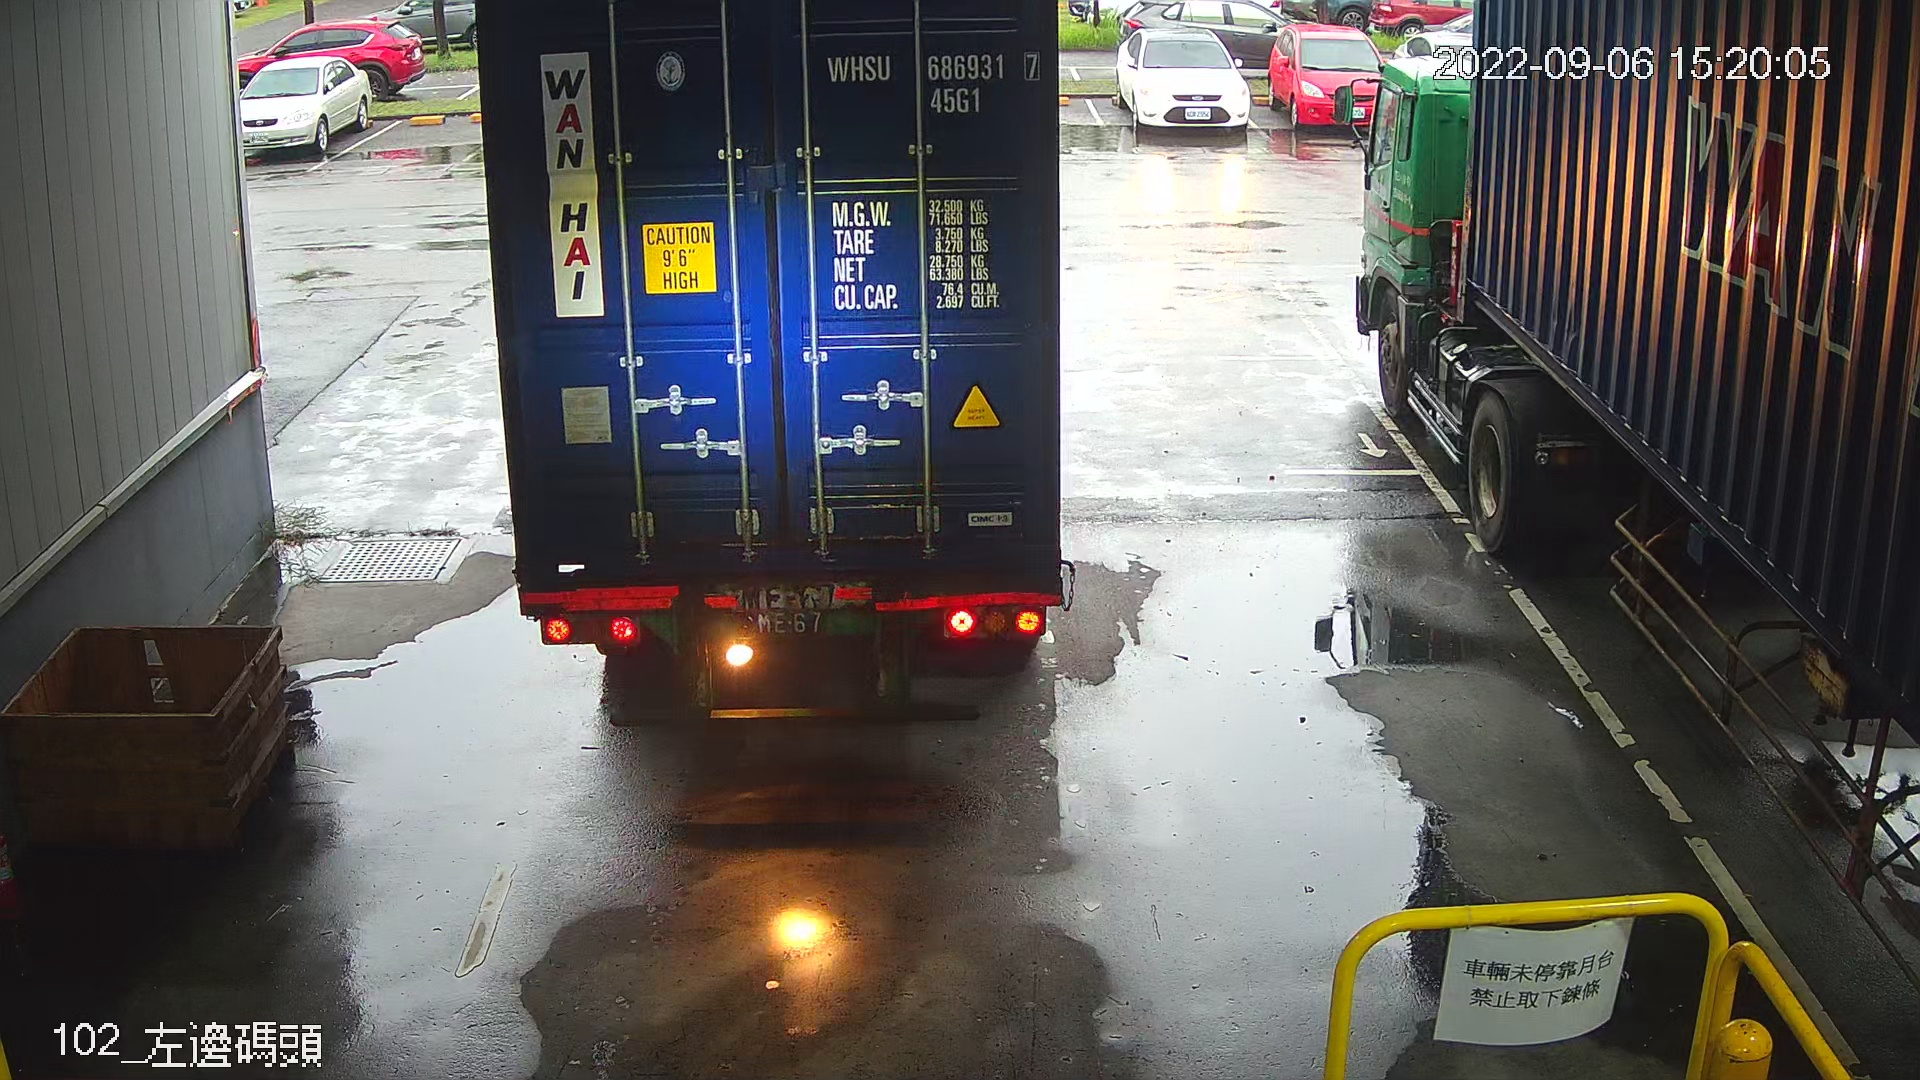container: (810, 41, 1047, 123)
